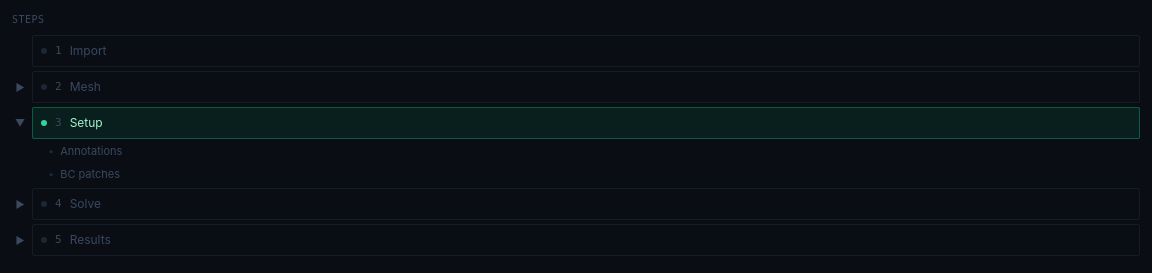
StepTree · Fluent-style hierarchy (DEC-V61-117) › respects user collapse of active step across navigation
Check: the list with test id "step-tree-subnodes-3" is shown, box [48,144,122,180]
User collapses active step 3.
What coordinates should you click on to do the following:
click the button with test id "step-tree-chevron-3"
I would click on:
 (20, 123)
Its box is [12,107,28,139].
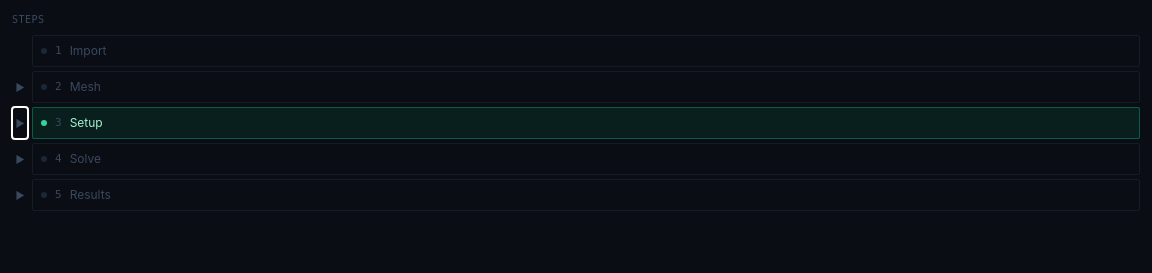
Check: the list with test id "step-tree-subnodes-3" is gone
